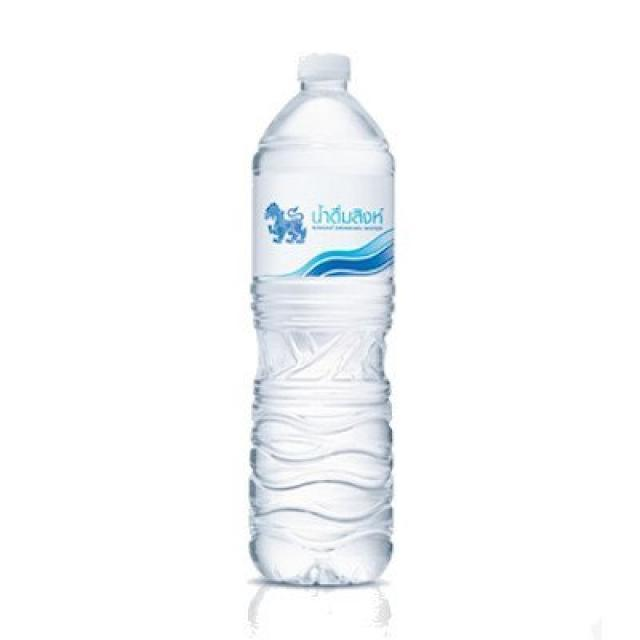plastic_bottle: (249, 55, 395, 587)
